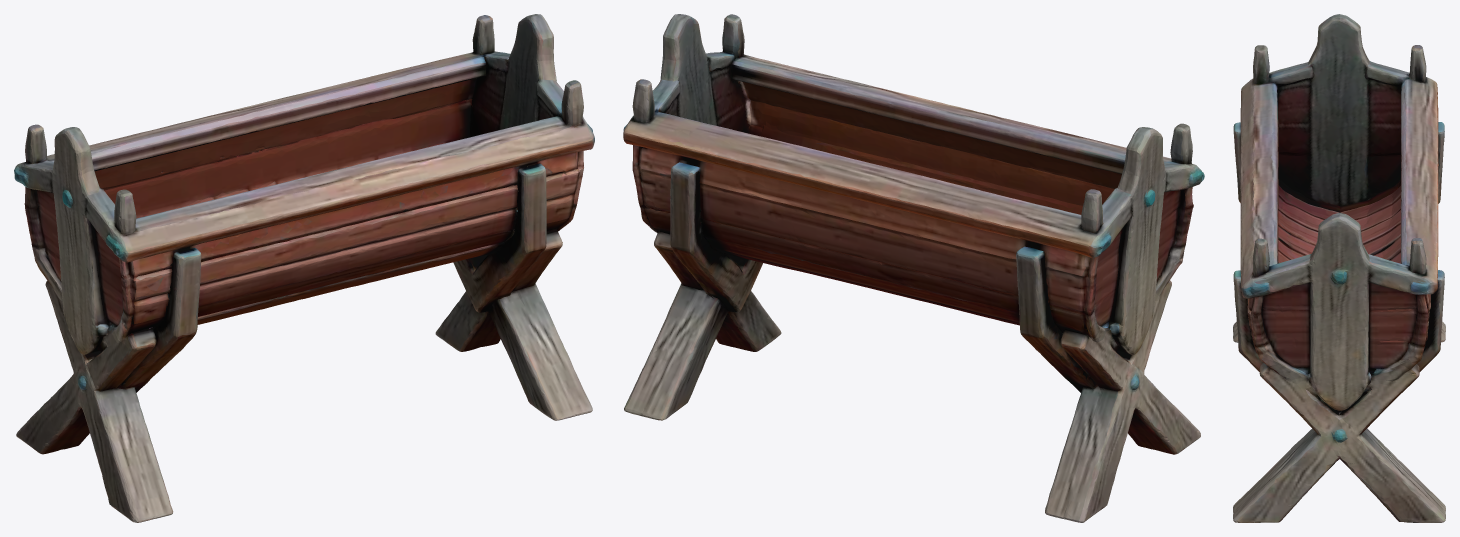
Rendered from village_water_trough_01.glb.
The picture shows the model from 3 angles, left to right: view 1: azimuth 30°, elevation 25°; view 2: azimuth 150°, elevation 25°; view 3: azimuth 270°, elevation 25°; orthographic projection. The views are drawn at different scales.
Parts seen in each view (by area): view 1: geometry_0; view 2: geometry_0; view 3: geometry_0.
Boxes of the visible parts, left/top/right/bottom form: geometry_0: left=14, top=14, right=594, bottom=522; geometry_0: left=623, top=14, right=1204, bottom=522; geometry_0: left=1233, top=14, right=1445, bottom=522.
Size of the model in its own units: 1 by 0.702 by 0.4373.
1 material, 1 textured.
